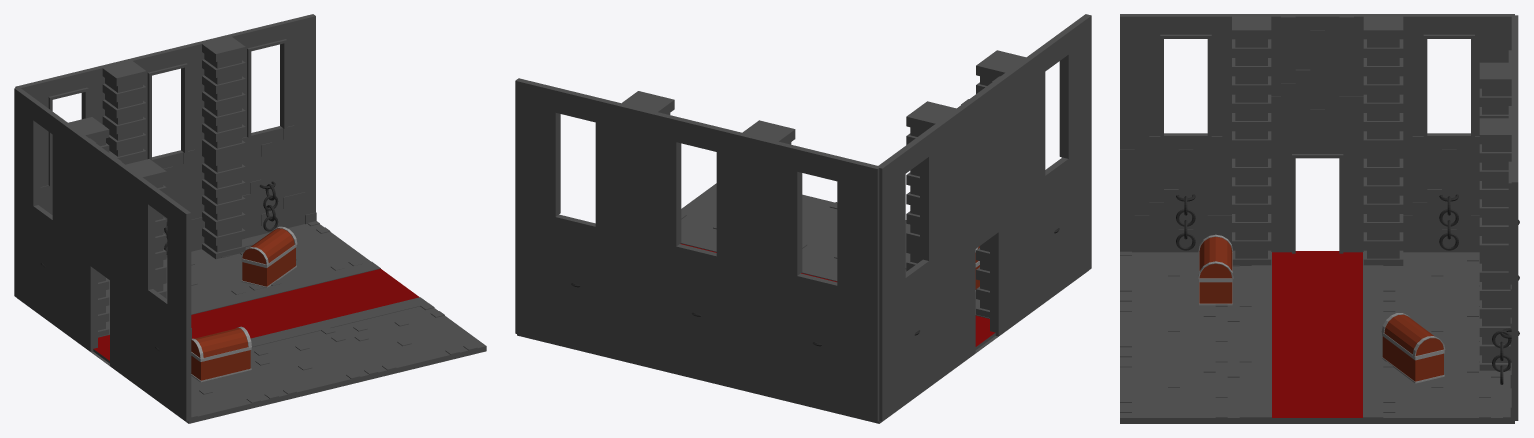
The model's file is Dungeon.glb.
3 views of the same model, side by side, from view 1: azimuth 30°, elevation 25°; view 2: azimuth 150°, elevation 25°; view 3: azimuth 270°, elevation 25° (orthographic). The views are drawn at different scales.
Parts seen in each view (by area): view 1: Cube.009, Cube.007, Cube.003, Cube.016, Cube, Cube.015, Cube.021, Cube.019, Cube.024, Cube.020, Cube.002, Cube.018 (+16 smaller); view 2: Cube.001, Cube.009, Cube.004, Cube.022, Cube.023, Cube.024, Cube, Cube.003, Cube.007, Cube.020, Cube.021, Cube.002 (+8 smaller); view 3: Cube.007, Cube.003, Cube.021, Cube, Cube.019, Cube.016, Cube.015, Cube.018, Cube.020, Cube.013, Cube.002, Cube.017 (+19 smaller).
Boxes of the visible parts, x1,y1,x2,y2 form: Cube.009: (242, 120, 316, 238); Cube.007: (129, 276, 191, 421); Cube.003: (71, 129, 131, 275); Cube.016: (331, 303, 486, 375); Cube: (14, 192, 71, 337); Cube.015: (250, 327, 387, 399); Cube.021: (129, 171, 191, 317); Cube.019: (273, 261, 428, 327); Cube.024: (214, 14, 315, 137); Cube.020: (14, 87, 74, 233); Cube.002: (71, 234, 128, 379); Cube.018: (191, 286, 329, 347); Cube.001: (757, 266, 879, 421); Cube.009: (515, 207, 635, 362); Cube.004: (636, 236, 756, 392); Cube.022: (757, 137, 880, 295); Cube.023: (636, 108, 758, 265); Cube.024: (515, 78, 638, 236); Cube: (879, 244, 952, 421); Cube.003: (946, 65, 1021, 243); Cube.007: (1022, 142, 1091, 318); Cube.020: (876, 116, 952, 294); Cube.021: (1016, 14, 1091, 192); Cube.002: (952, 193, 1021, 369); Cube.007: (1120, 133, 1231, 252); Cube.003: (1251, 14, 1383, 135); Cube.021: (1120, 14, 1251, 137); Cube: (1403, 133, 1479, 252); Cube.019: (1251, 361, 1383, 423); Cube.016: (1120, 361, 1251, 423); Cube.015: (1120, 306, 1251, 362); Cube.018: (1251, 306, 1383, 362); Cube.020: (1383, 14, 1514, 137); Cube.013: (1383, 361, 1514, 423); Cube.002: (1271, 136, 1363, 253); Cube.017: (1251, 251, 1383, 306).
Size of the model in its own units: 24.3 by 16.2 by 24.3.
